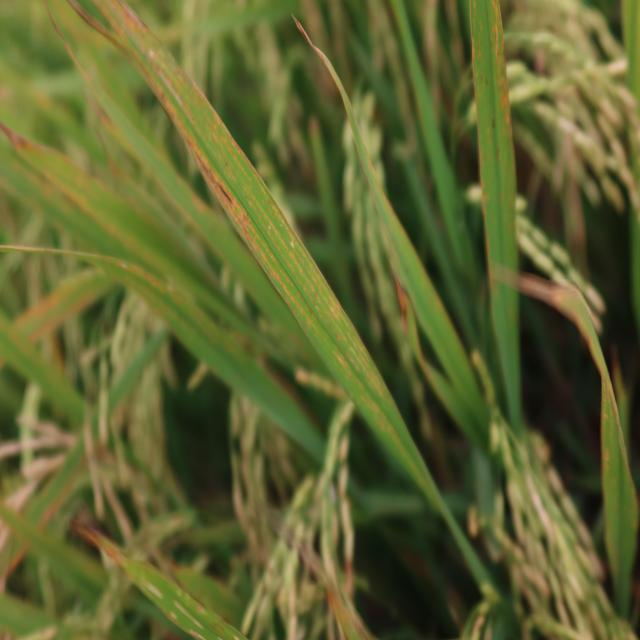Dom soc vi khuan: (99, 0, 459, 534), (491, 1, 511, 131), (473, 1, 476, 30), (472, 37, 475, 60)
